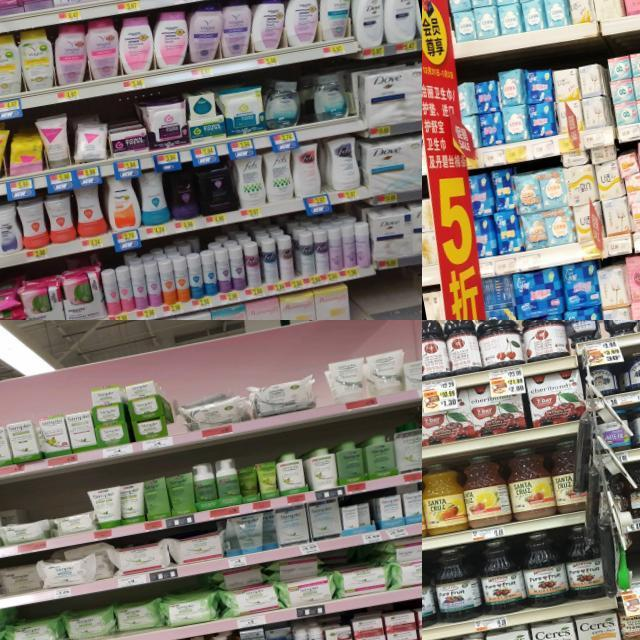empty: (373, 268, 422, 320), (346, 278, 376, 320), (625, 527, 640, 592)
